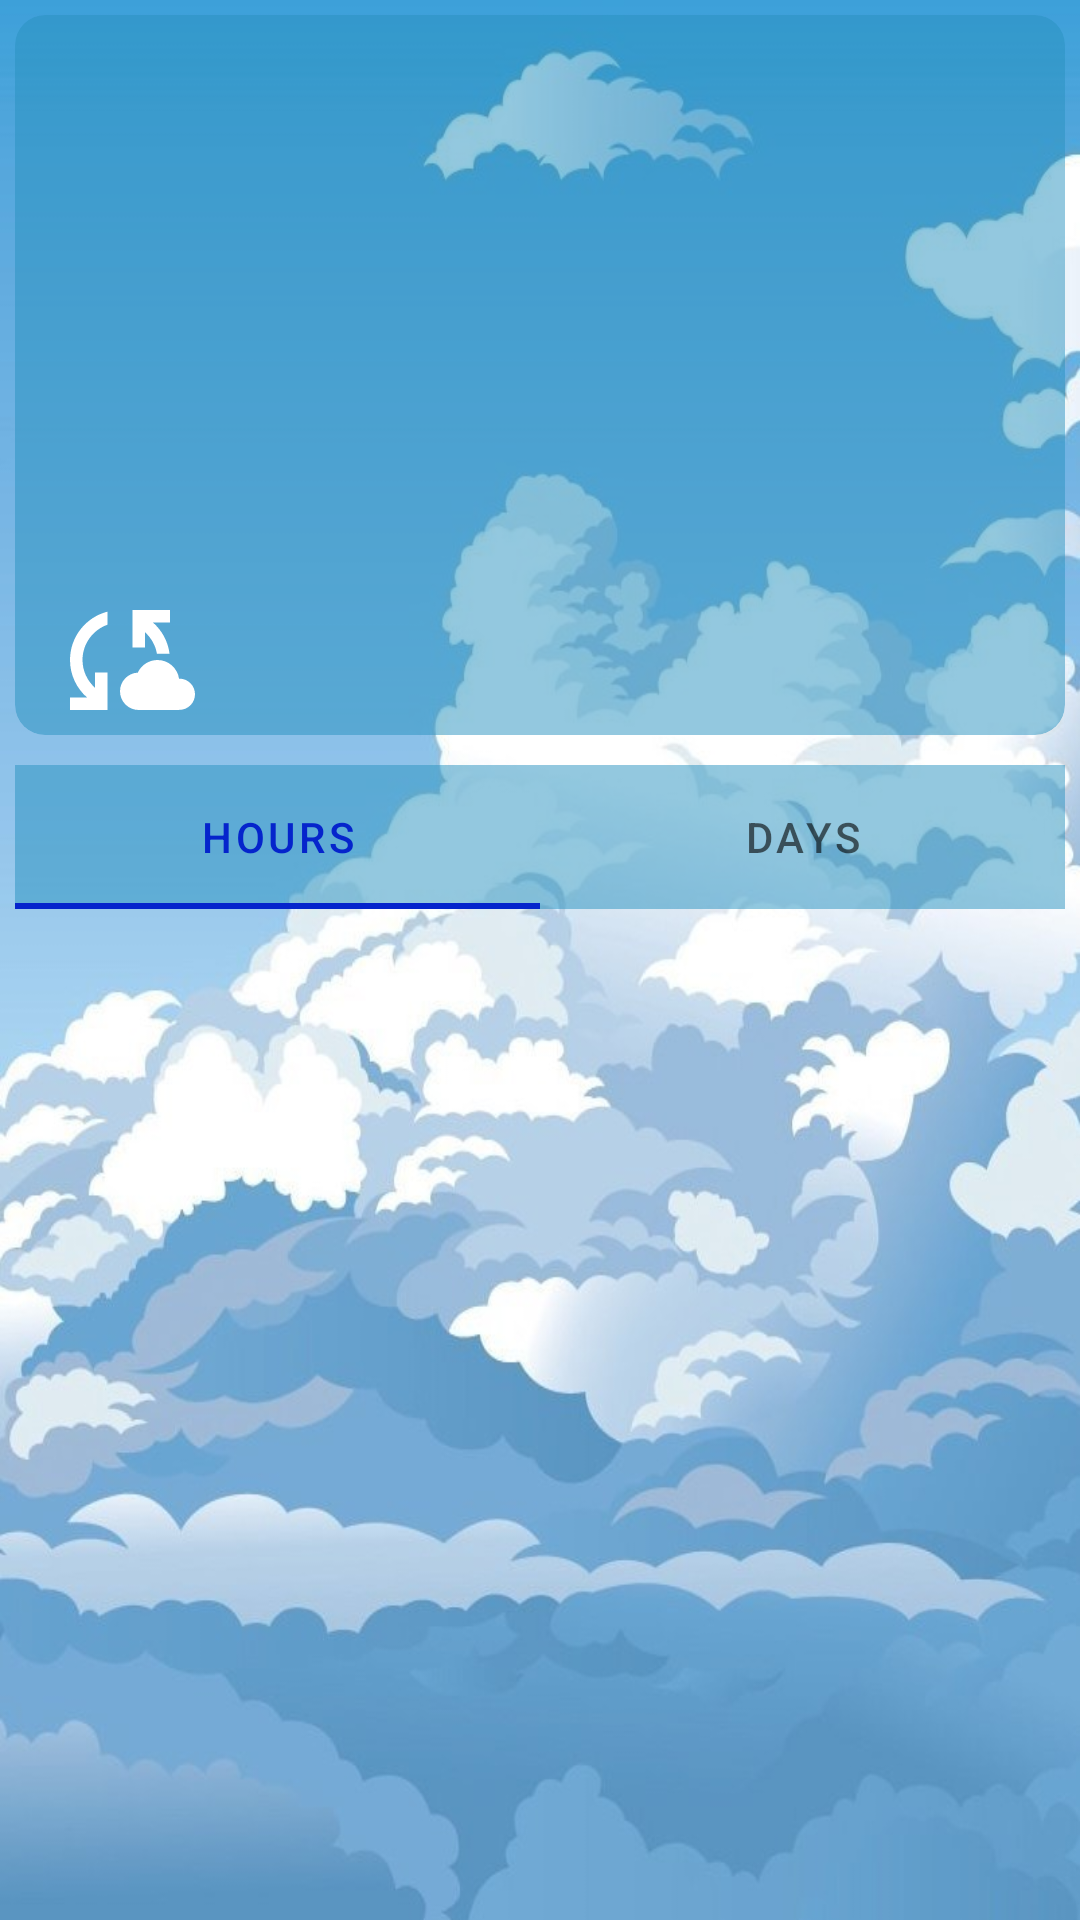

Screen size 1080*1920. Icon name, then its center in pixels as (x,y):
update im: (132,660)
